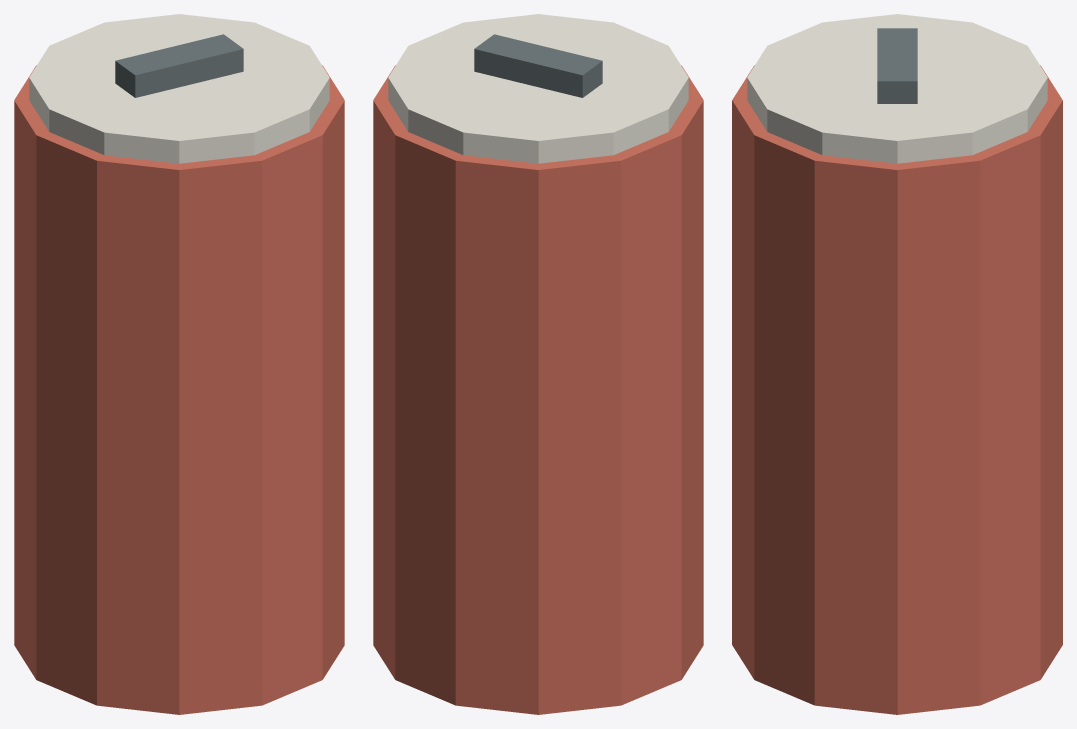
The model's file is supermarket-operations-soda-can-8290a2be__26836.glb.
The picture shows the model from 3 angles, left to right: view 1: azimuth 30°, elevation 25°; view 2: azimuth 150°, elevation 25°; view 3: azimuth 270°, elevation 25°; orthographic projection.
Parts seen in each view (by area): view 1: soda-can; view 2: soda-can; view 3: soda-can.
Part boxes in pixels (x1,y1,x2,y2): soda-can: [14, 14, 344, 714]; soda-can: [373, 14, 703, 714]; soda-can: [732, 14, 1062, 714].
Size of the model in its own units: 0.066 by 0.13 by 0.066.
